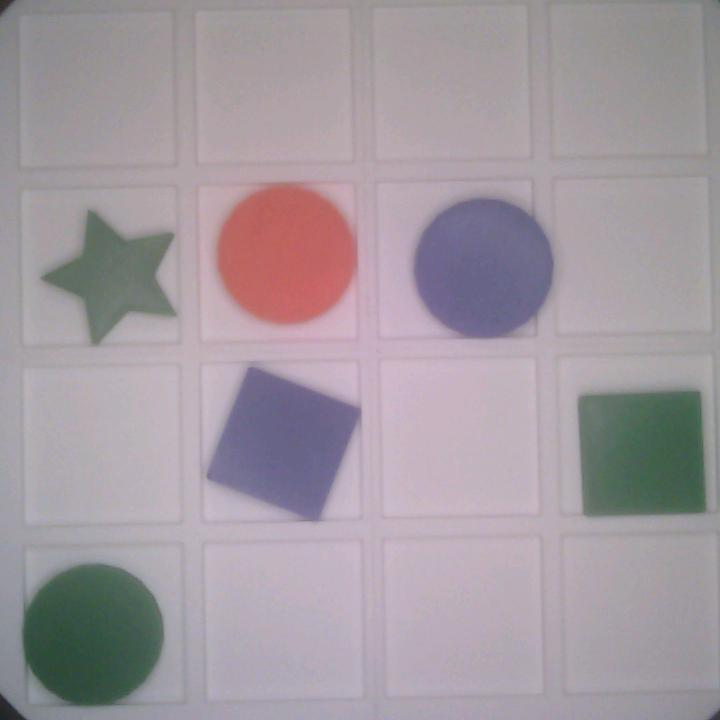Blue circle: (417, 196, 553, 343)
Blue square: (204, 368, 360, 522)
Green circle: (17, 562, 162, 709)
Green square: (576, 388, 707, 521)
Green star: (38, 203, 177, 345)
Orange circle: (217, 183, 358, 328)
